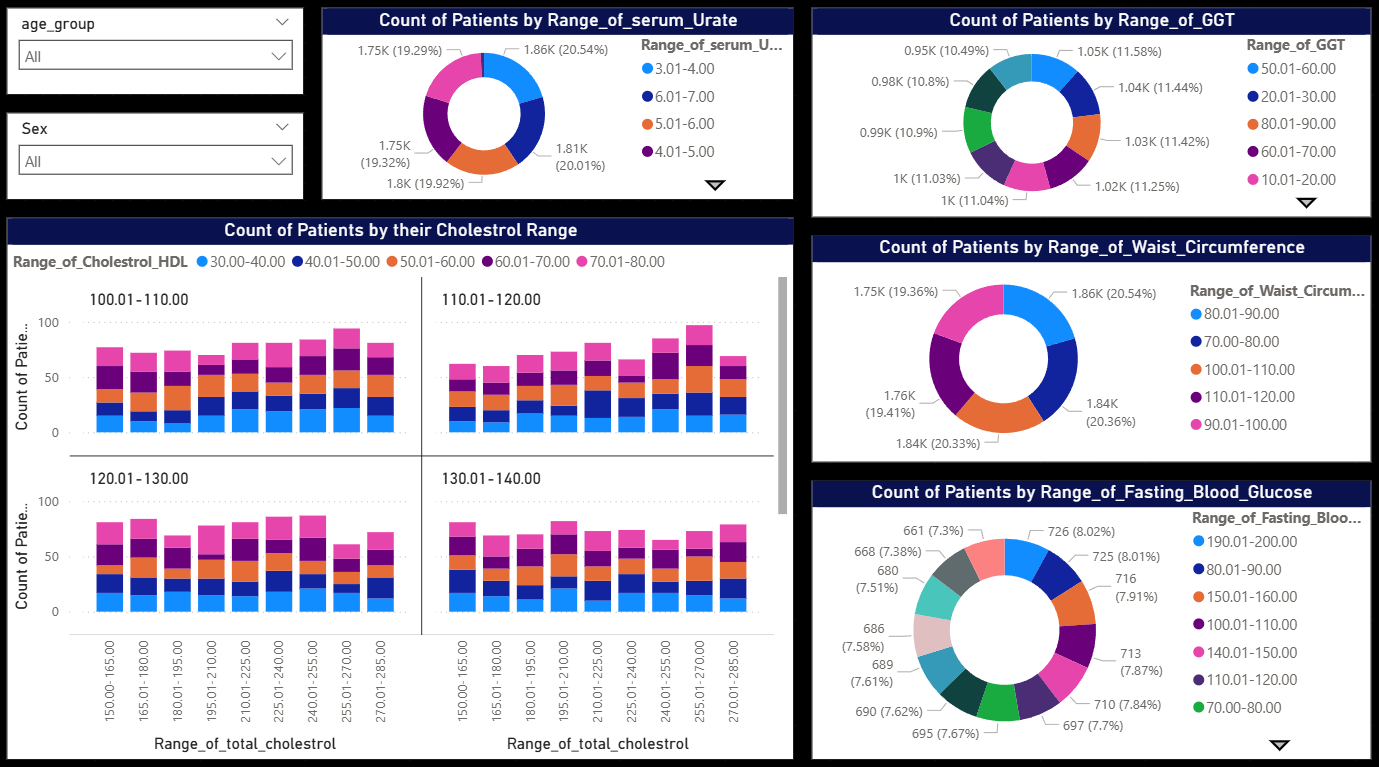

This screenshot's page, from the dashboard's own definition file:
{"tool":"powerbi","page":{"name":"Page 2","canvas":[1280,720],"ordinal":1},"visuals":[{"type":"columnChart","title":"Count of Patients by their Cholestrol Range","fields":{"Y":["CountNonNull(diabetes_dataset.Age)"],"Category":["diabetes_dataset.Range_of_total_cholestrol"],"Series":["diabetes_dataset.Range_of_Cholestrol_HDL"],"Rows":["diabetes_dataset.Range_of_Cholestrol_LDL"]},"box":[16,208,720,496],"z":0},{"type":"donutChart","fields":{"Y":["CountNonNull(diabetes_dataset.Age)"],"Category":["diabetes_dataset.Range_of_Fasting_Blood_Glucose"]},"box":[752,448,512,256],"z":1000},{"type":"donutChart","fields":{"Y":["CountNonNull(diabetes_dataset.Age)"],"Category":["diabetes_dataset.Range_of_Waist_Circumference"]},"box":[752,224,512,208],"z":2000},{"type":"slicer","fields":{"Values":["diabetes_dataset.age_group"]},"box":[16,16,272,80],"z":3000},{"type":"slicer","fields":{"Values":["diabetes_dataset.Sex"]},"box":[16,112,272,80],"z":4000},{"type":"donutChart","fields":{"Y":["CountNonNull(diabetes_dataset.Age)"],"Category":["diabetes_dataset.Range_of_serum_Urate"]},"box":[304,16,432,176],"z":5000},{"type":"donutChart","fields":{"Y":["CountNonNull(diabetes_dataset.Age)"],"Category":["diabetes_dataset.Range_of_GGT"]},"box":[752,16,512,192],"z":6000}]}

Visuals, with their boxes in screenshot pixels (x1, y1, x2, y2), scaled from the page's 1280x720 canvas onto the 1379x767 screenshot:
"Count of Patients by their Cholestrol Range" columnChart: [17, 222, 793, 750]
donutChart - CountNonNull(diabetes_dataset.Age) x diabetes_dataset.Range_of_Fasting_Blood_Glucose: [810, 477, 1362, 750]
donutChart - CountNonNull(diabetes_dataset.Age) x diabetes_dataset.Range_of_Waist_Circumference: [810, 239, 1362, 460]
slicer - diabetes_dataset.age_group: [17, 17, 310, 102]
slicer - diabetes_dataset.Sex: [17, 119, 310, 205]
donutChart - CountNonNull(diabetes_dataset.Age) x diabetes_dataset.Range_of_serum_Urate: [328, 17, 793, 205]
donutChart - CountNonNull(diabetes_dataset.Age) x diabetes_dataset.Range_of_GGT: [810, 17, 1362, 222]
